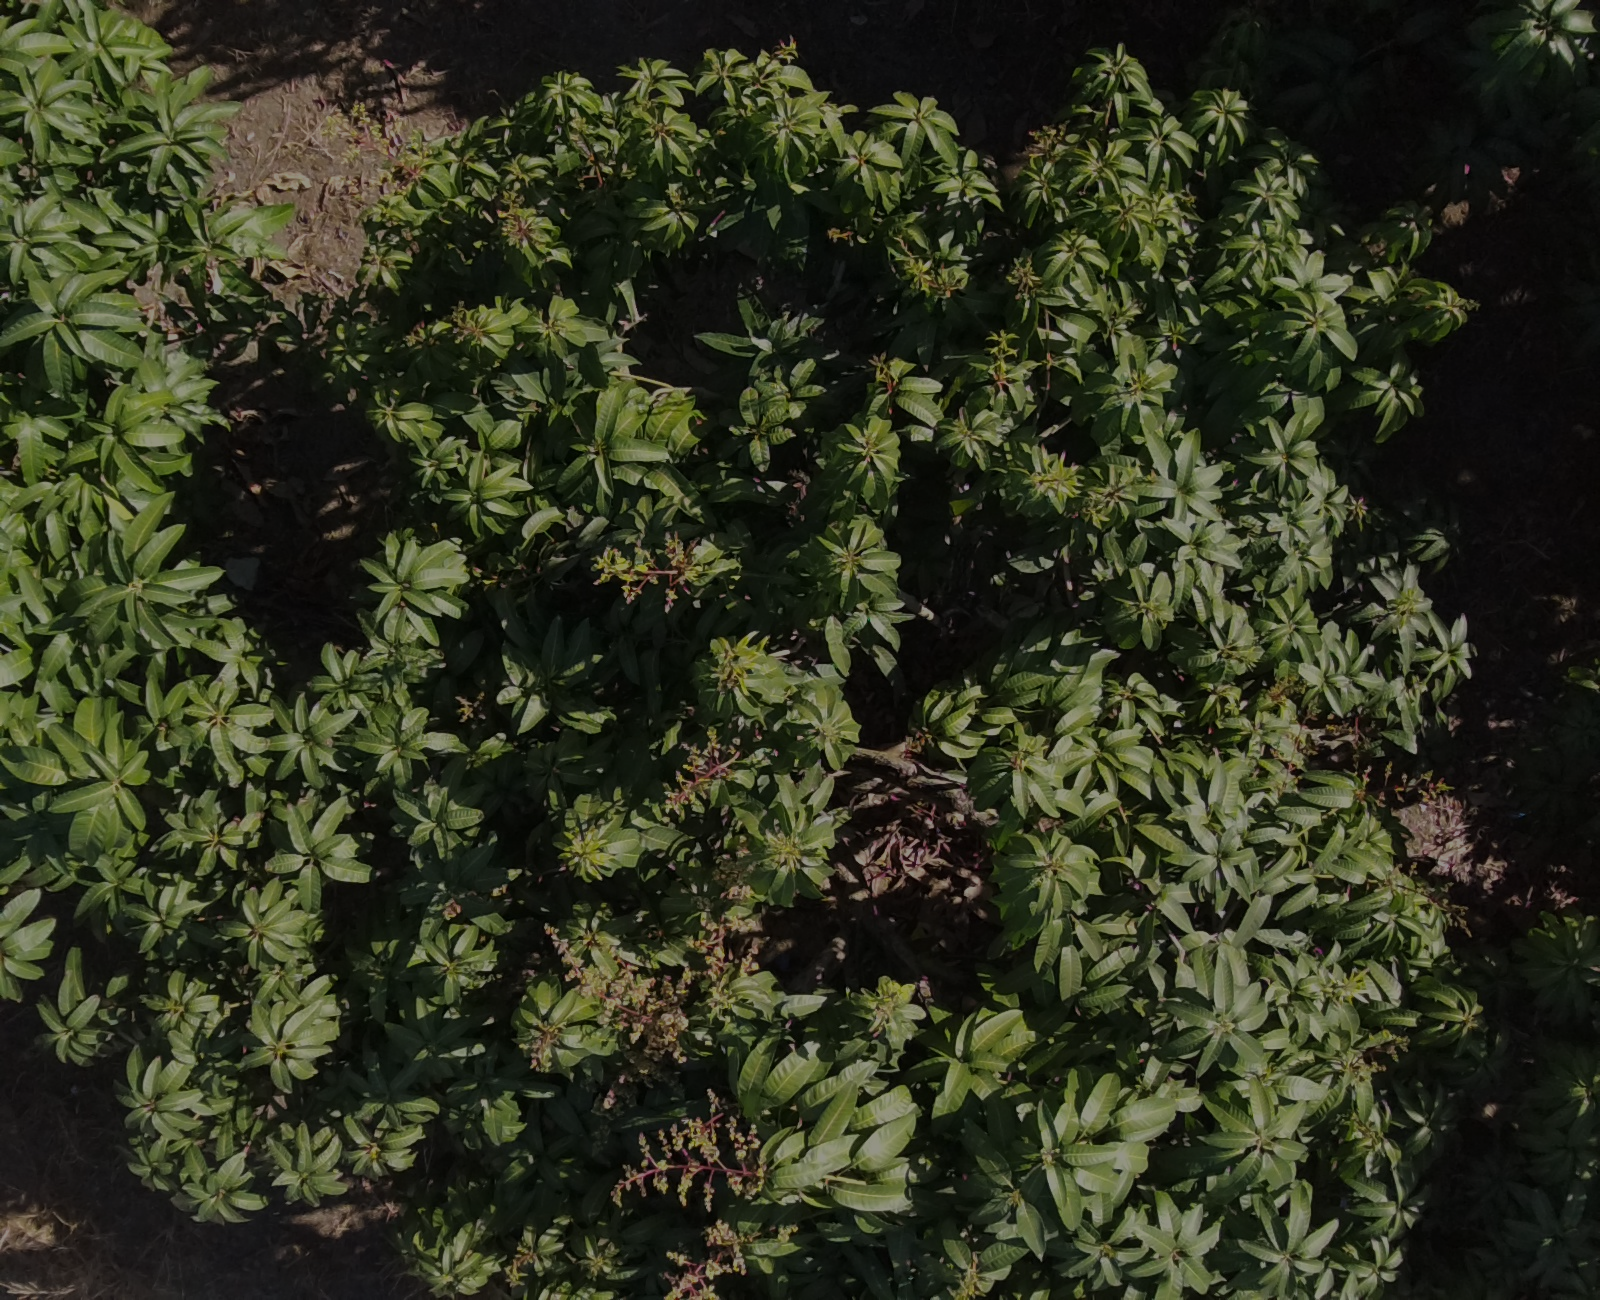flowers: (547, 918, 693, 1082), (612, 1089, 766, 1208), (663, 1220, 762, 1297), (663, 728, 740, 820)
